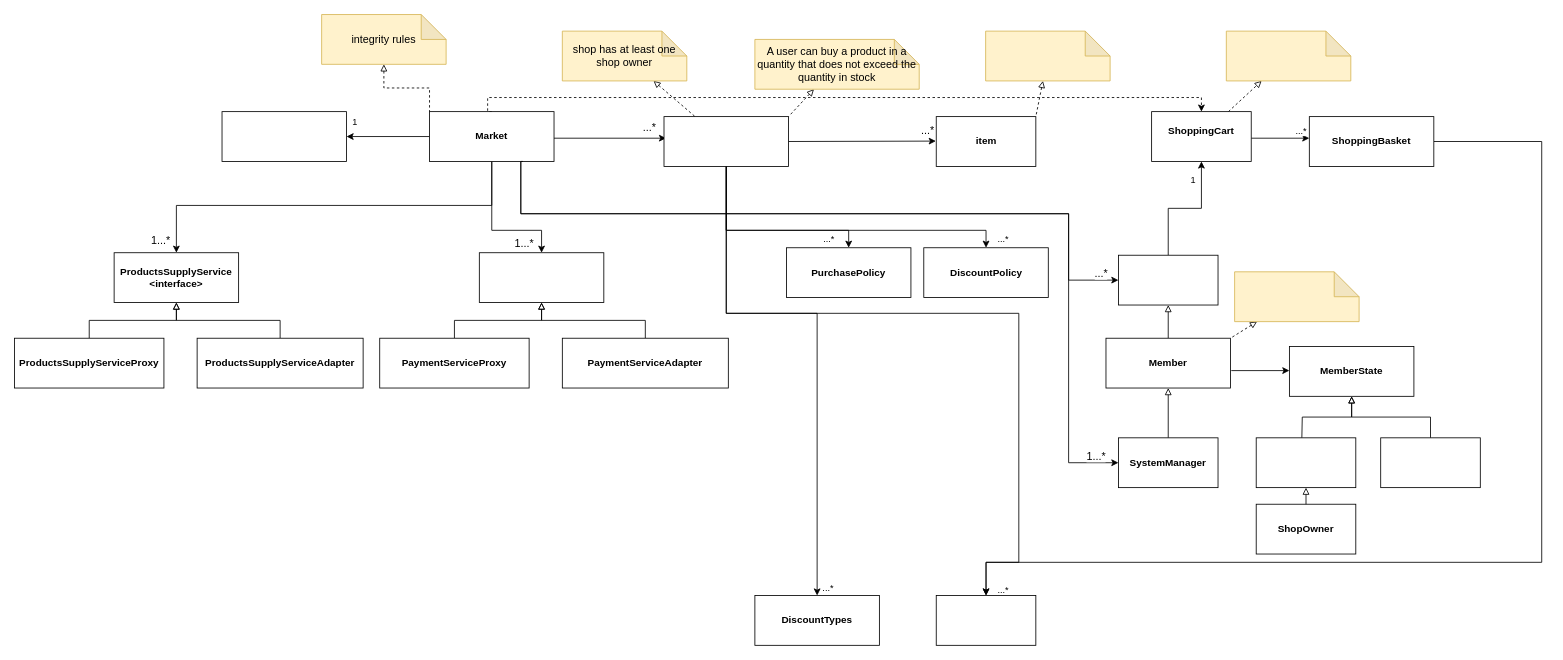
Image size: 1563x660. Some labels were removed from this diagram. The box of each missing label's shape, as (x1, y1, x2, y2) in pixels:
buyer has at most one shopping basket per shop: (1225, 30, 1351, 81)
Guest: (1118, 254, 1218, 305)
Payment Service <interface>: (478, 252, 604, 303)
Product inventory is not negative: (985, 30, 1110, 81)
PurchaseTypes: (935, 595, 1036, 645)
Security: (221, 111, 347, 161)
Seller: (1380, 437, 1480, 488)
Shop: (663, 116, 788, 166)
ShopManager: (1255, 437, 1356, 488)
unique name, enforced by user controller: (1234, 271, 1359, 322)
